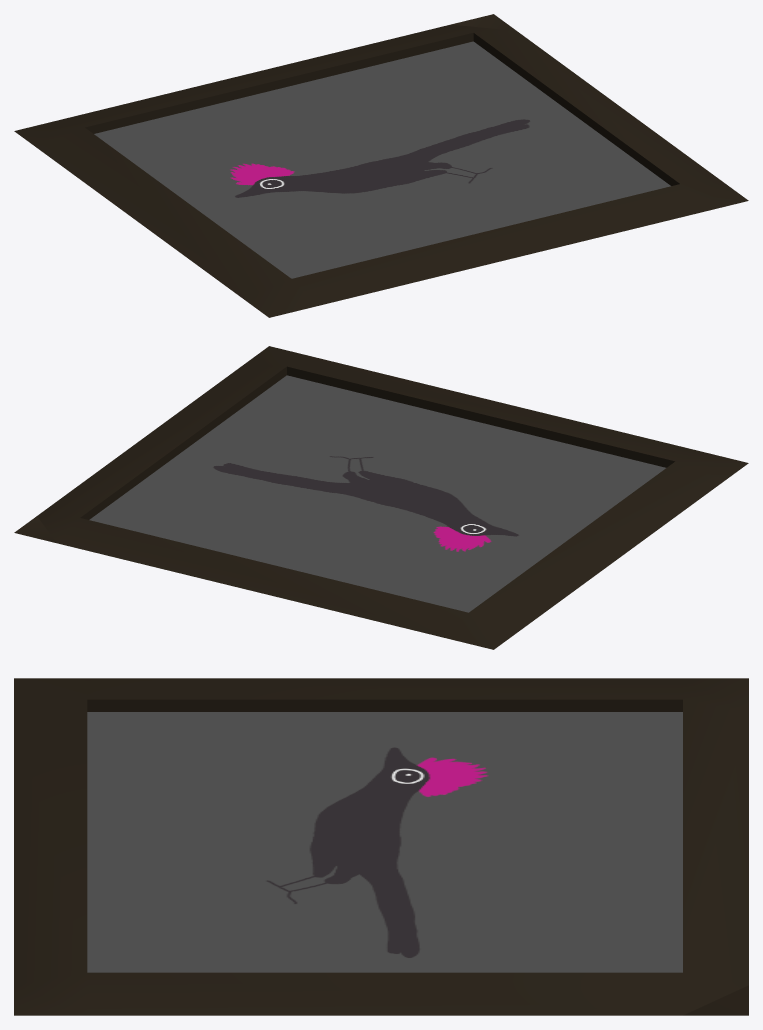
The model's file is Painting3.fbx.
3 renders of one model, top to bottom at view 1: azimuth 30°, elevation 25°; view 2: azimuth 150°, elevation 25°; view 3: azimuth 270°, elevation 25°, orthographic. The views are drawn at different scales.
Visible parts, largest first — view 1: pPlane1, pCube1; view 2: pPlane1, pCube1; view 3: pPlane1, pCube1.
Part boxes in pixels (x1,y1,x2,y2): pPlane1: (94, 41, 670, 278); pCube1: (14, 14, 748, 317); pPlane1: (89, 375, 665, 612); pCube1: (14, 346, 748, 649); pPlane1: (87, 712, 682, 972); pCube1: (14, 678, 748, 1015).
Size of the model in its own units: 5.44 by 0.1883 by 5.01.
Materials: 2 (1 with a texture image).
